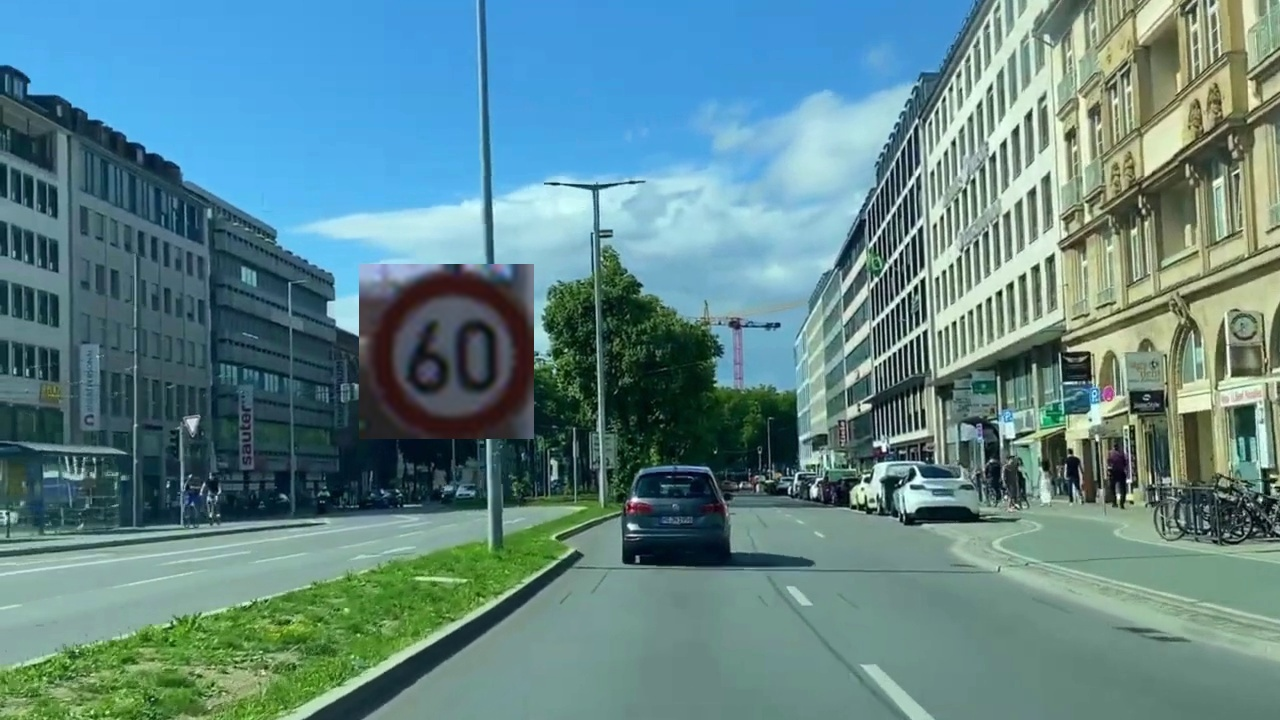Speed 60: (359, 264, 534, 439)
